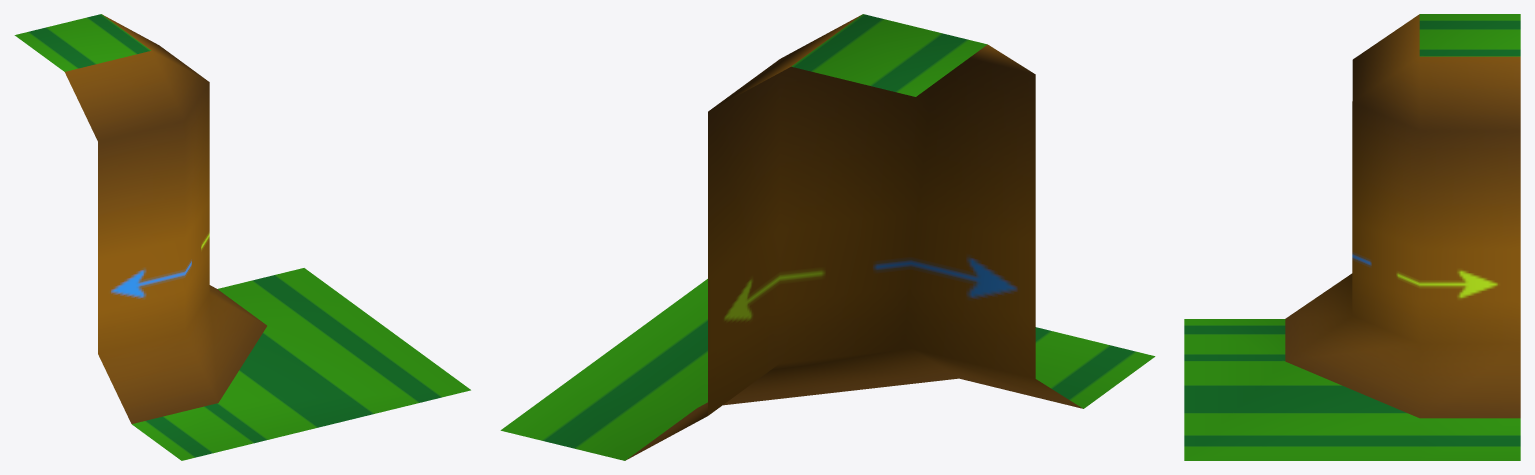
File: corner2_1.FBX
3 renders of one model, left to right at view 1: azimuth 30°, elevation 25°; view 2: azimuth 150°, elevation 25°; view 3: azimuth 270°, elevation 25°, orthographic. The views are drawn at different scales.
Parts seen in each view (by area): view 1: wall015; view 2: wall015; view 3: wall015.
Part boxes in pixels (<box>): wall015: <box>14,14,470,460</box>; wall015: <box>500,14,1155,460</box>; wall015: <box>1184,14,1520,460</box>.
Size of the model in its own units: 100 by 100 by 100.
2 materials, 2 textured.
